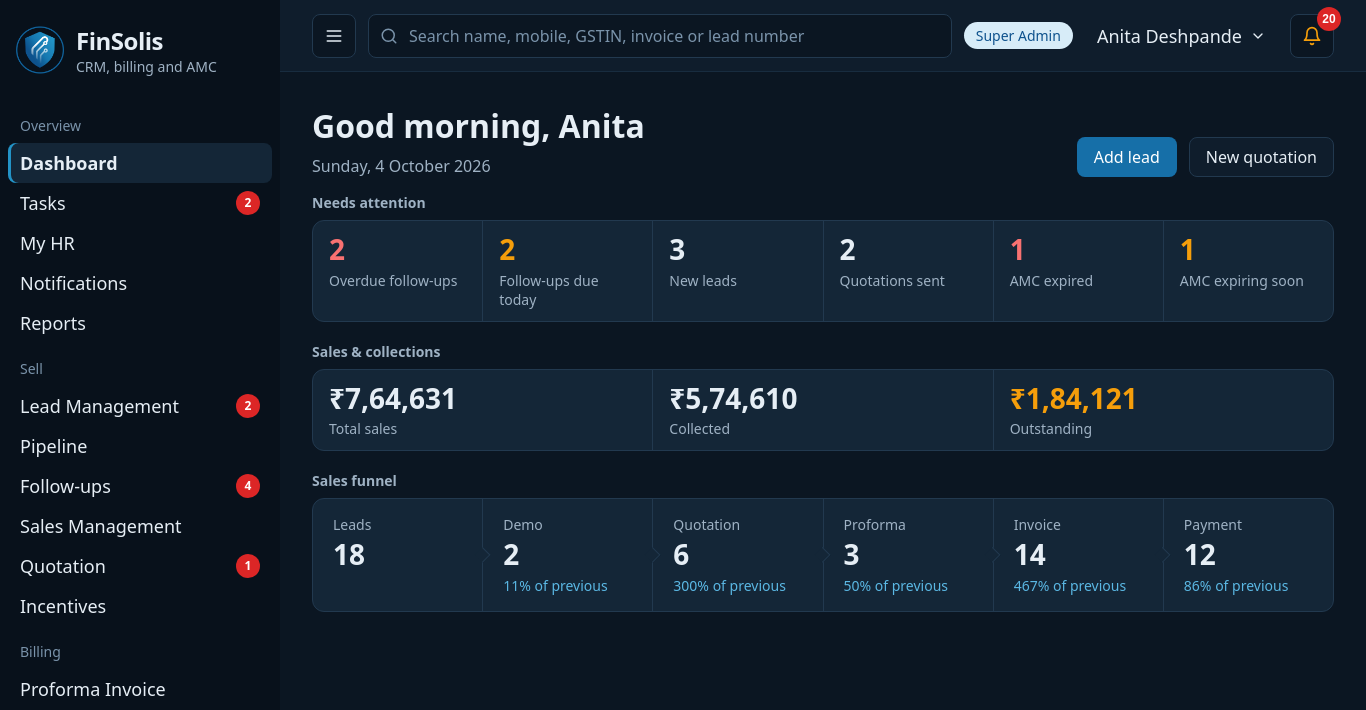
Test: App › opens Sales Management from the sidebar
This screenshot has width=1366, height=710.
Click the button "Sales Management".
click(140, 526)  # box [8, 506, 272, 546]
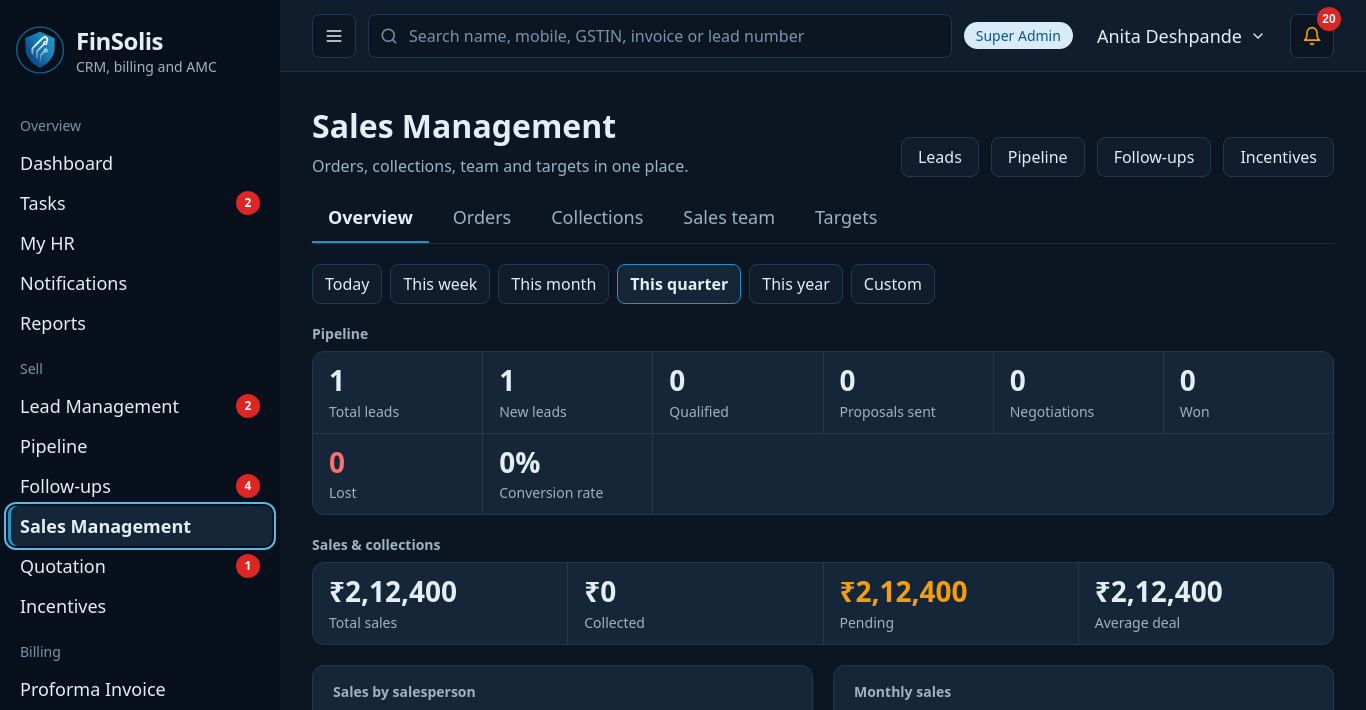
Expected: the heading "Sales Management" is shown, [312, 104, 616, 147]
